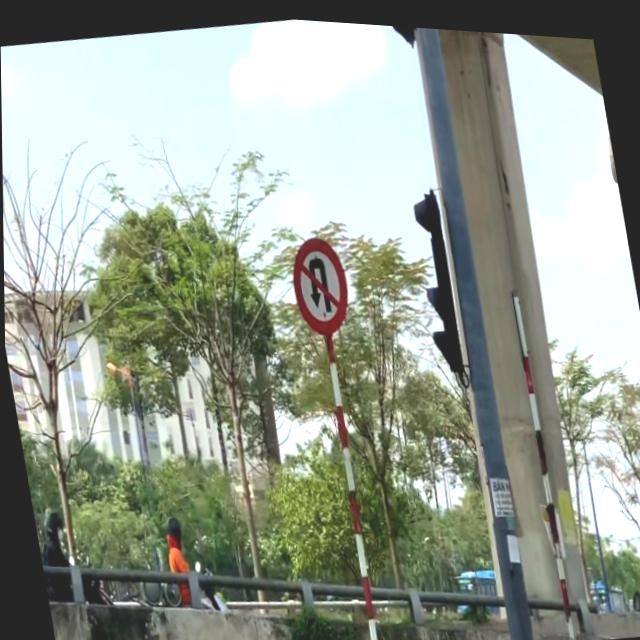Cam quay dau xe: (282, 225, 357, 341)
